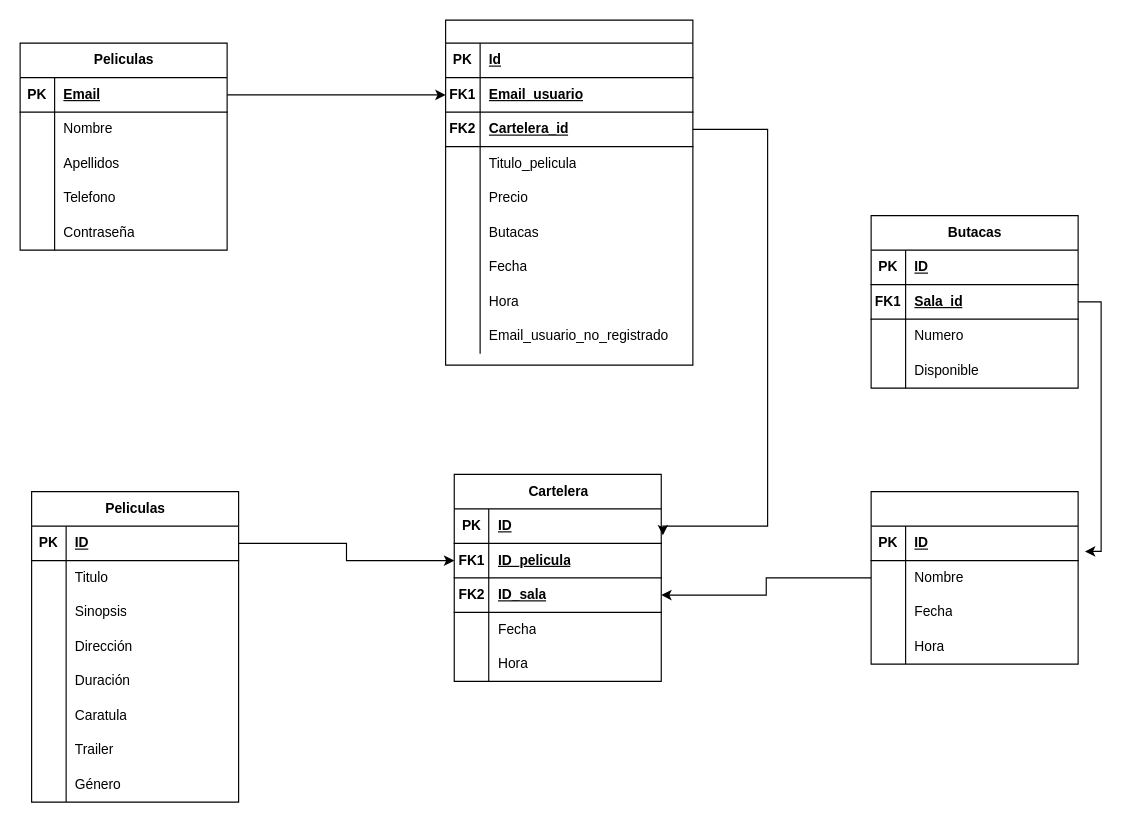
Some shapes in this 1130 by 822 pixel diagram are drawn without their labels. The box of each missing label's shape, as (x1, y1, x2, y2) in pixels:
Reservas: (444, 19, 693, 365)
Salas: (870, 490, 1078, 664)
